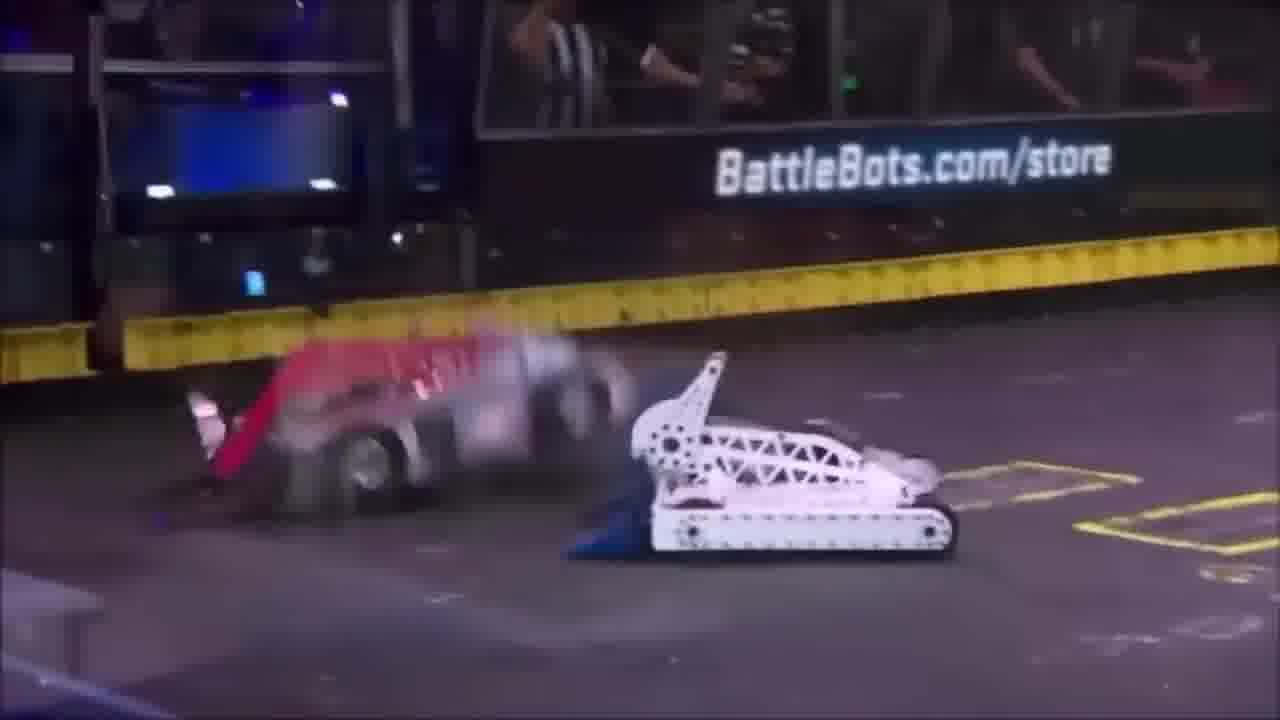combatbot: (571, 343, 962, 570), (180, 329, 636, 514)
